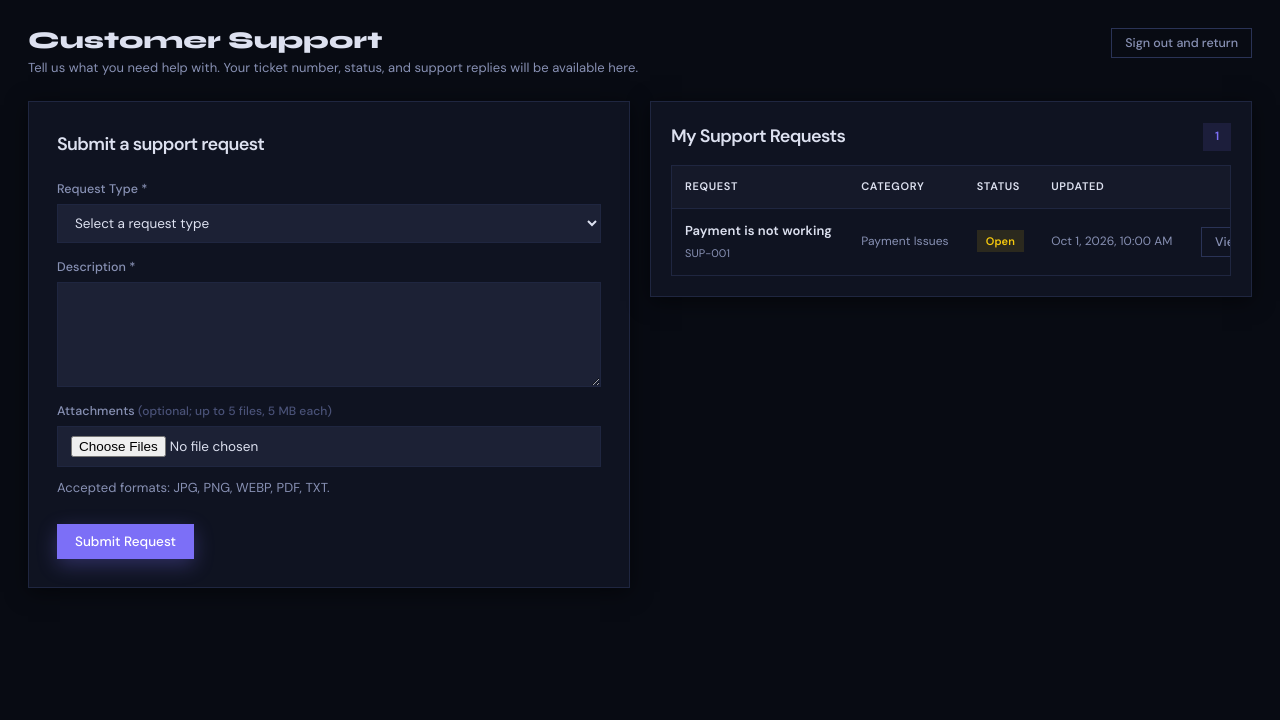
Scenario: React Customer Support › keeps a failed follow-up draft, then refreshes the saved conversation
Click the button "View": (1229, 242) left=1201, top=227, right=1258, bottom=257
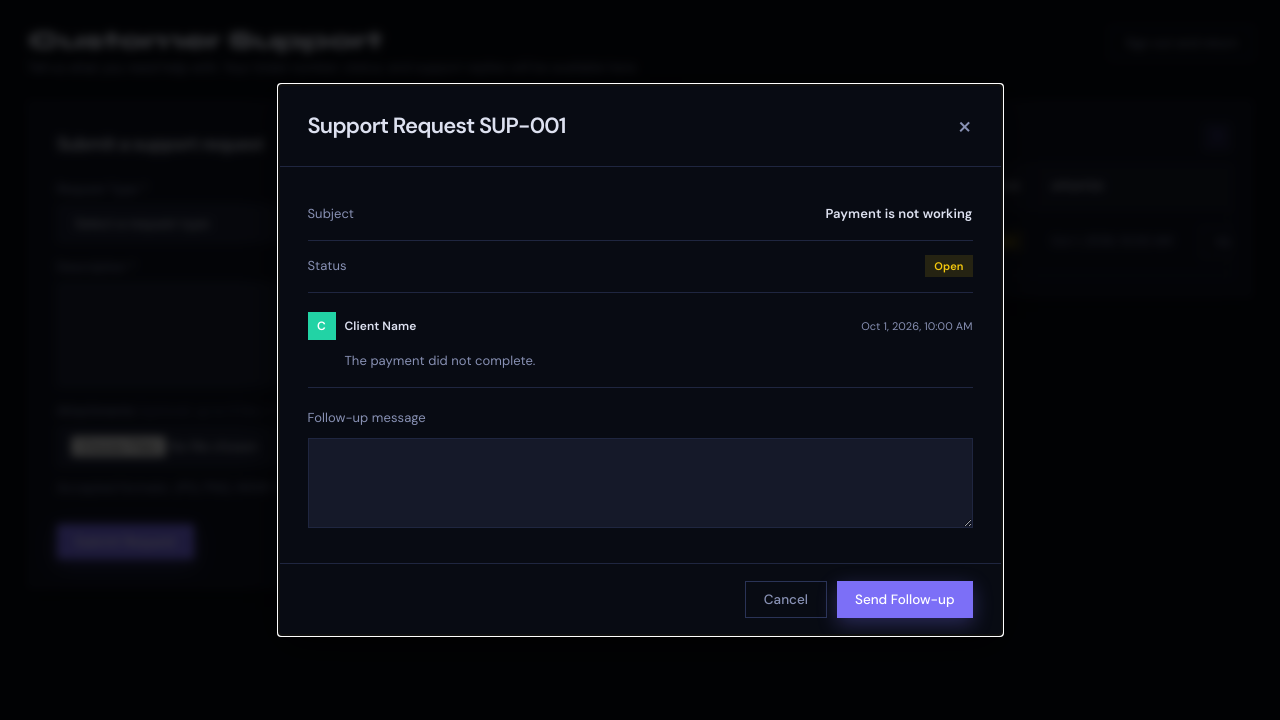
In the text box labelled "Follow-up message": (640, 483) left=308, top=438, right=972, bottom=528, type "Please recheck."
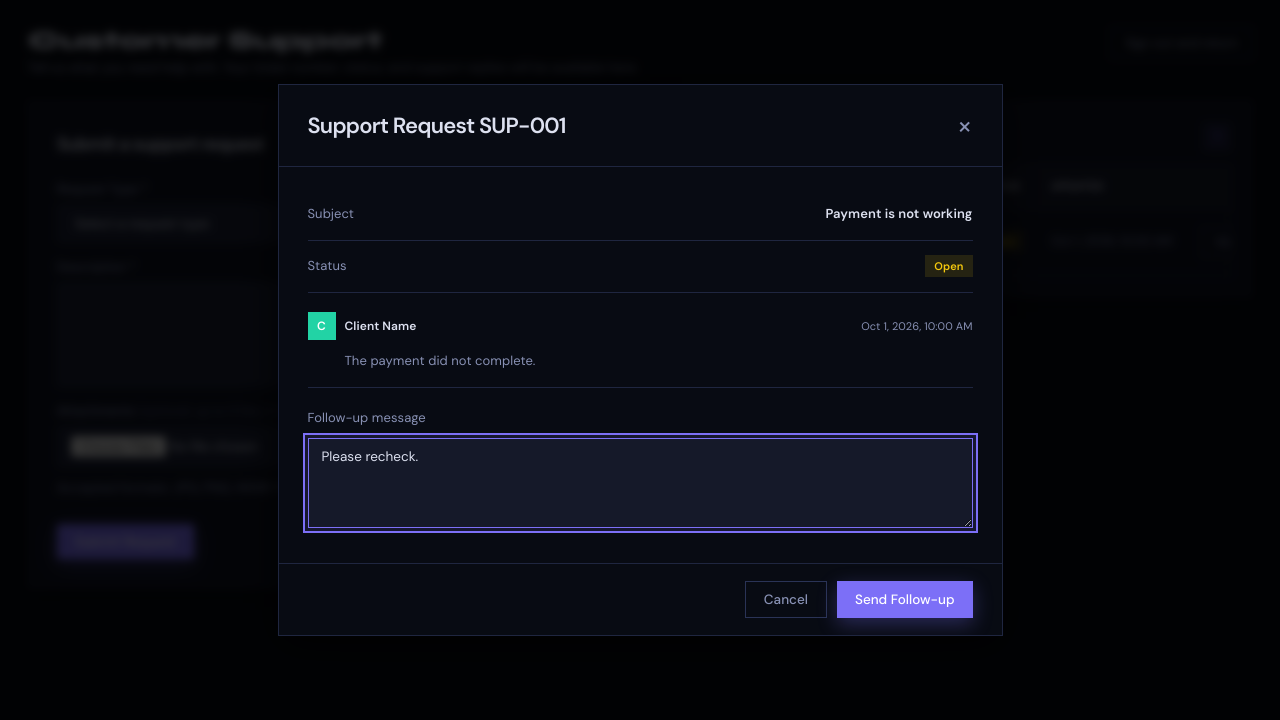
Click the button "Send Follow-up": (905, 599) left=837, top=581, right=972, bottom=618
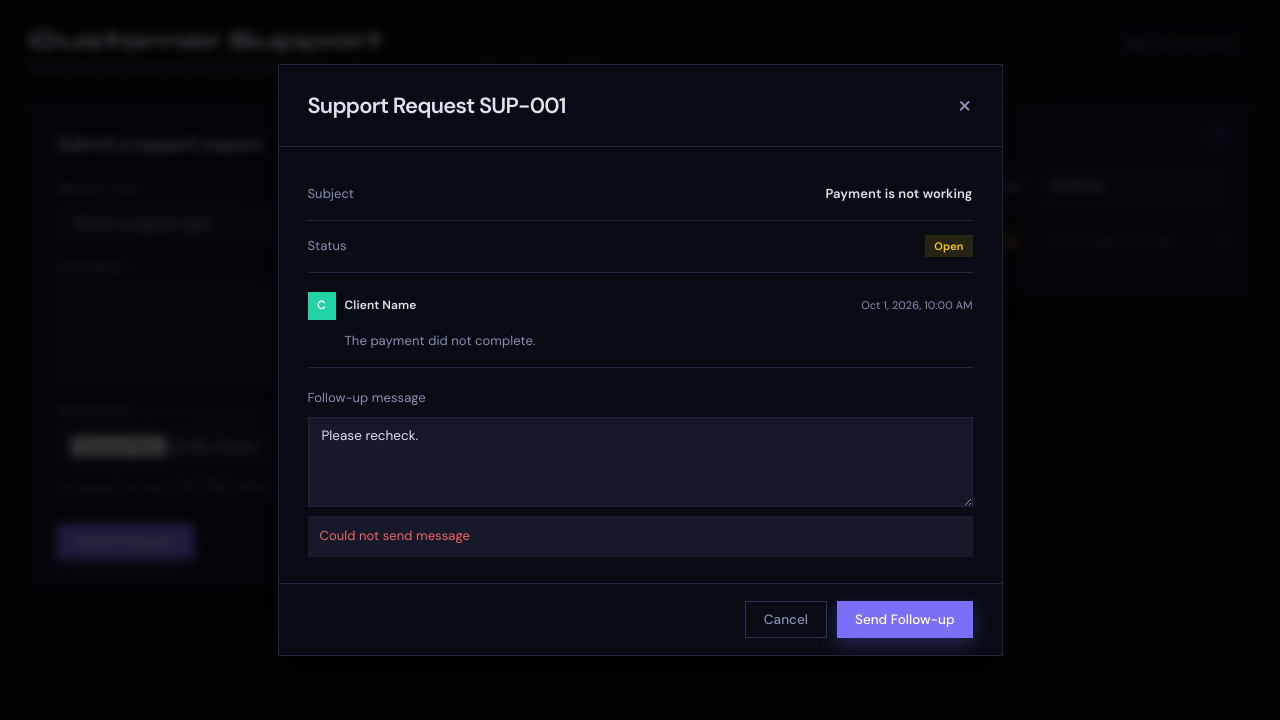
Check: the text "Could not send message" is shown, box left=308, top=516, right=972, bottom=557
Click the button "Send Follow-up": (905, 620) left=837, top=601, right=972, bottom=638
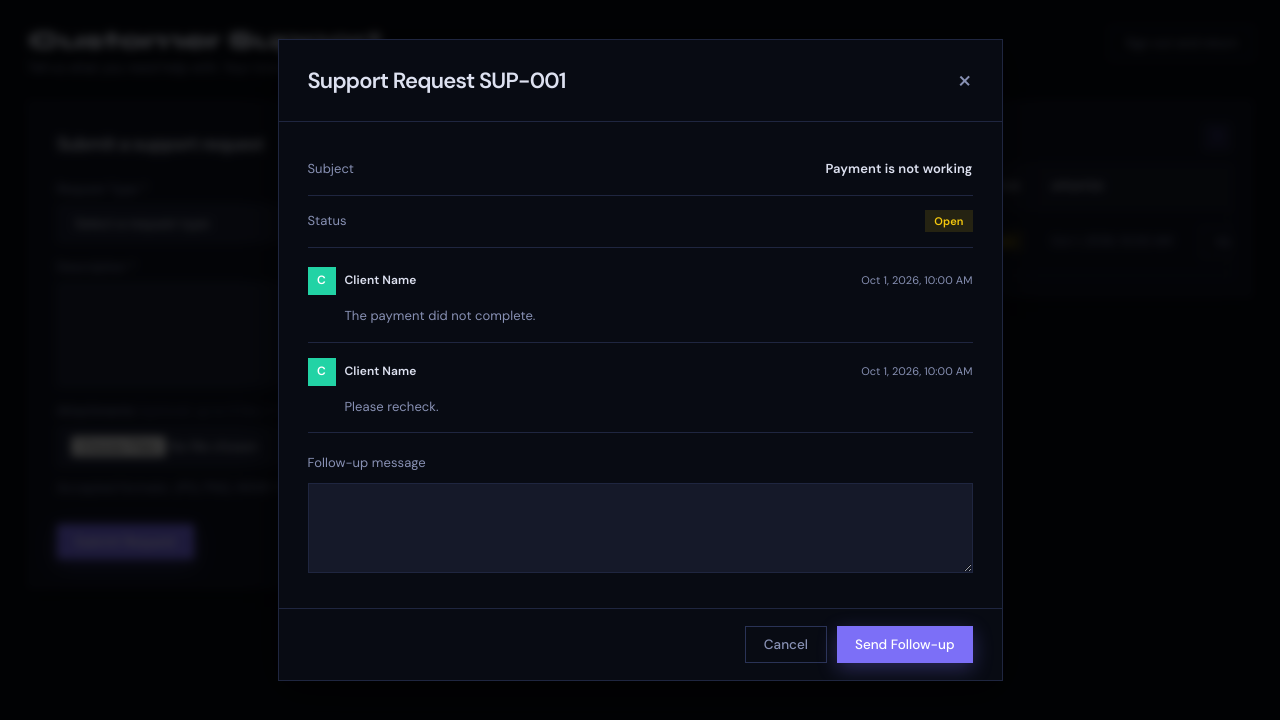
Check: the text "Please recheck." is shown, box left=344, top=398, right=439, bottom=415
Check: the text box labelled "Follow-up message" is empty, box left=308, top=483, right=972, bottom=573
